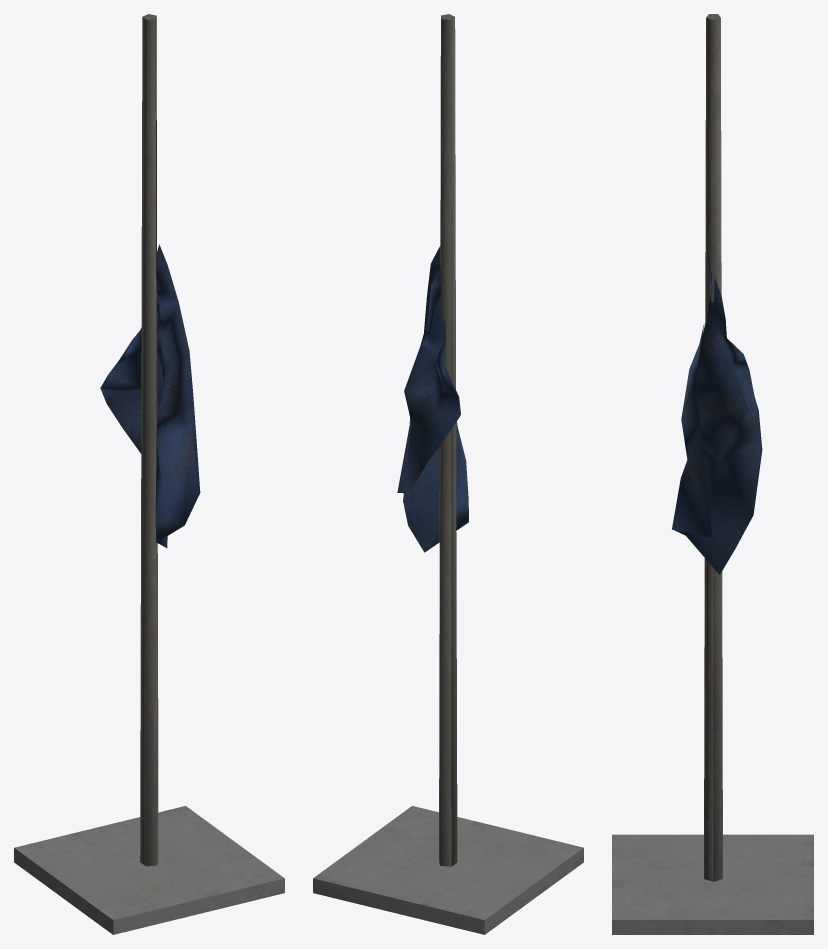
Rendered from Prop_Qz01.glb.
3 views of the same model, side by side, from view 1: azimuth 30°, elevation 25°; view 2: azimuth 150°, elevation 25°; view 3: azimuth 270°, elevation 25° (orthographic).
Parts seen in each view (by area): view 1: xiutz_qz01; view 2: xiutz_qz01; view 3: xiutz_qz01.
Boxes of the visible parts, x1=… form: xiutz_qz01: x1=14, y1=14, x2=284, y2=934; xiutz_qz01: x1=313, y1=14, x2=583, y2=934; xiutz_qz01: x1=612, y1=14, x2=813, y2=934.
Bounding box in the file's own units: 2.74 × 13.1 × 2.74.
1 material, 1 textured.
